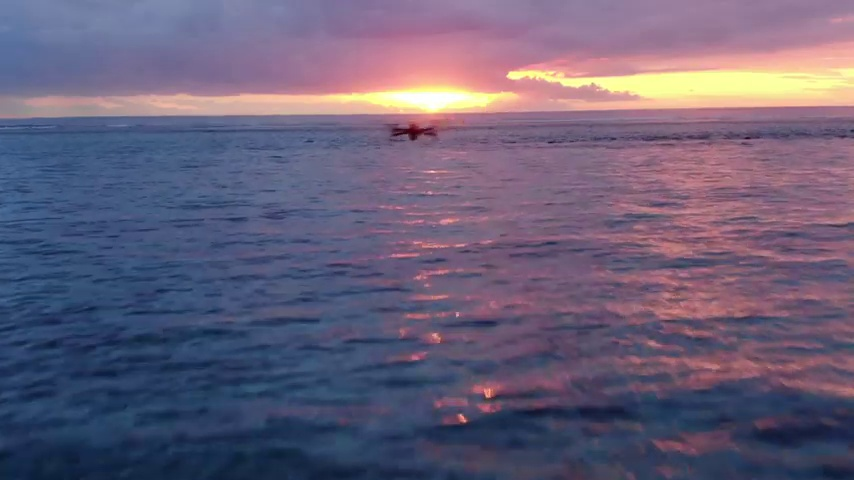drone: (388, 121, 437, 144)
